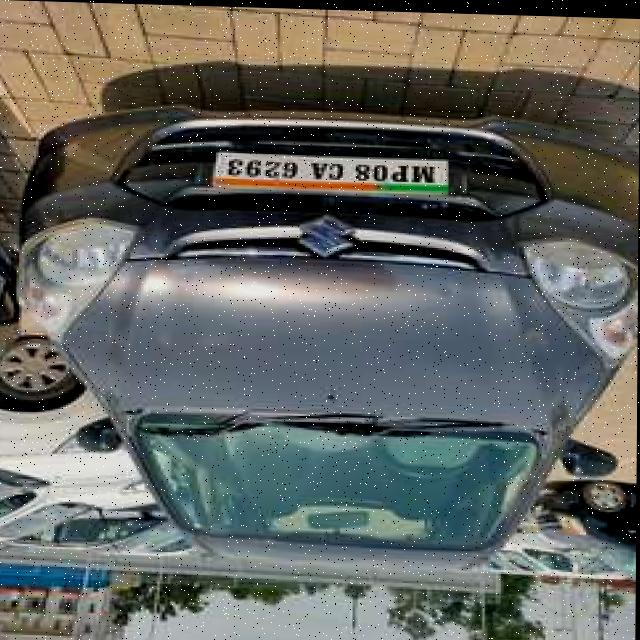plate: (209, 150, 451, 194)
